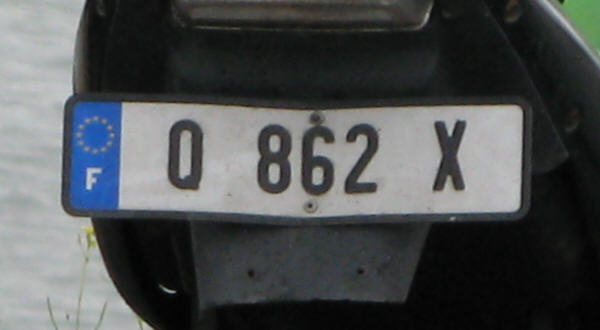license_plate: (62, 93, 533, 224)
